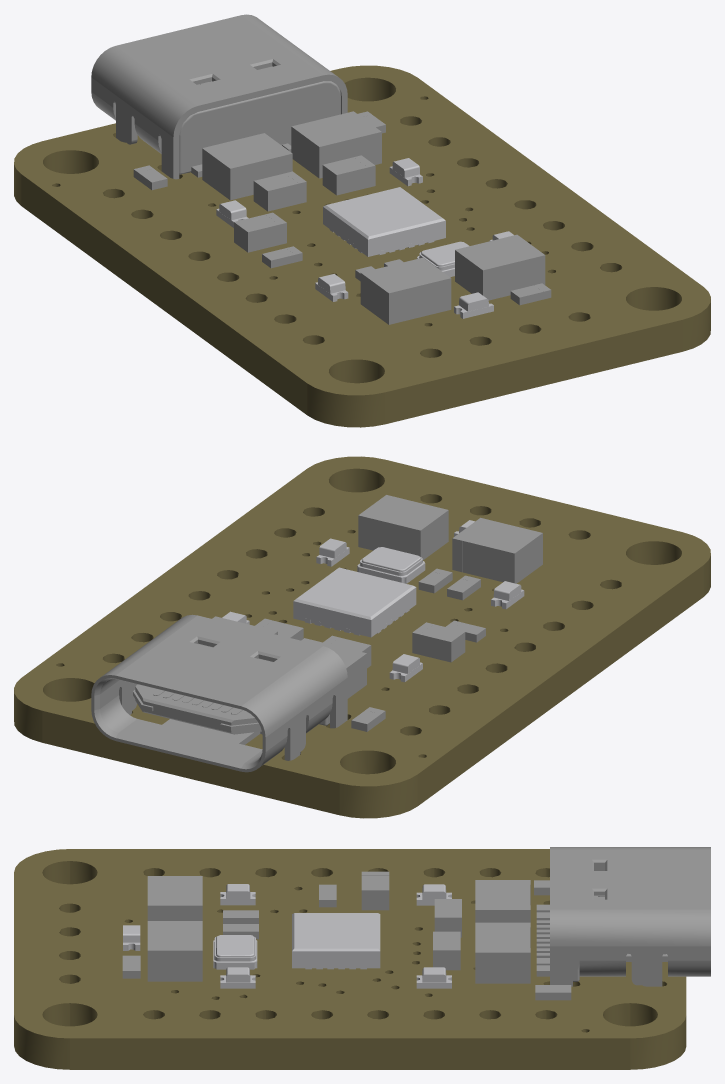
The model's file is ada-5997.glb.
3 views of the same model, one above another, from view 1: azimuth 30°, elevation 25°; view 2: azimuth 150°, elevation 25°; view 3: azimuth 270°, elevation 25° (orthographic). The views are drawn at different scales.
Visible parts, largest first — view 1: 0.16666666666666666_0.16666666666666666_0.08333333333333333_, 0.3333333333333333_0.3333333333333333_0.3333333333333333_0, 0.5833333333333334_0.5833333333333334_0.5833333333333334_0.8; view 2: 0.16666666666666666_0.16666666666666666_0.08333333333333333_, 0.3333333333333333_0.3333333333333333_0.3333333333333333_0, 0.5833333333333334_0.5833333333333334_0.5833333333333334_0.8; view 3: 0.16666666666666666_0.16666666666666666_0.08333333333333333_, 0.3333333333333333_0.3333333333333333_0.3333333333333333_0, 0.5833333333333334_0.5833333333333334_0.5833333333333334_0.8.
Part boxes in pixels (x1,y1,x2,y2): 0.16666666666666666_0.16666666666666666_0.08333333333333333_: (14,65,710,427); 0.3333333333333333_0.3333333333333333_0.3333333333333333_0: (91,14,551,324); 0.5833333333333334_0.5833333333333334_0.5833333333333334_0.8: (216,158,513,318); 0.16666666666666666_0.16666666666666666_0.08333333333333333_: (14,456,710,818); 0.3333333333333333_0.3333333333333333_0.3333333333333333_0: (91,495,542,772); 0.5833333333333334_0.5833333333333334_0.5833333333333334_0.8: (222,520,524,682); 0.16666666666666666_0.16666666666666666_0.08333333333333333_: (14,849,686,1069); 0.3333333333333333_0.3333333333333333_0.3333333333333333_0: (122,847,710,1000); 0.5833333333333334_0.5833333333333334_0.5833333333333334_0.8: (123,884,451,988).
Bounding box in the file's own units: 2.03 × 0.477 × 3.16.
